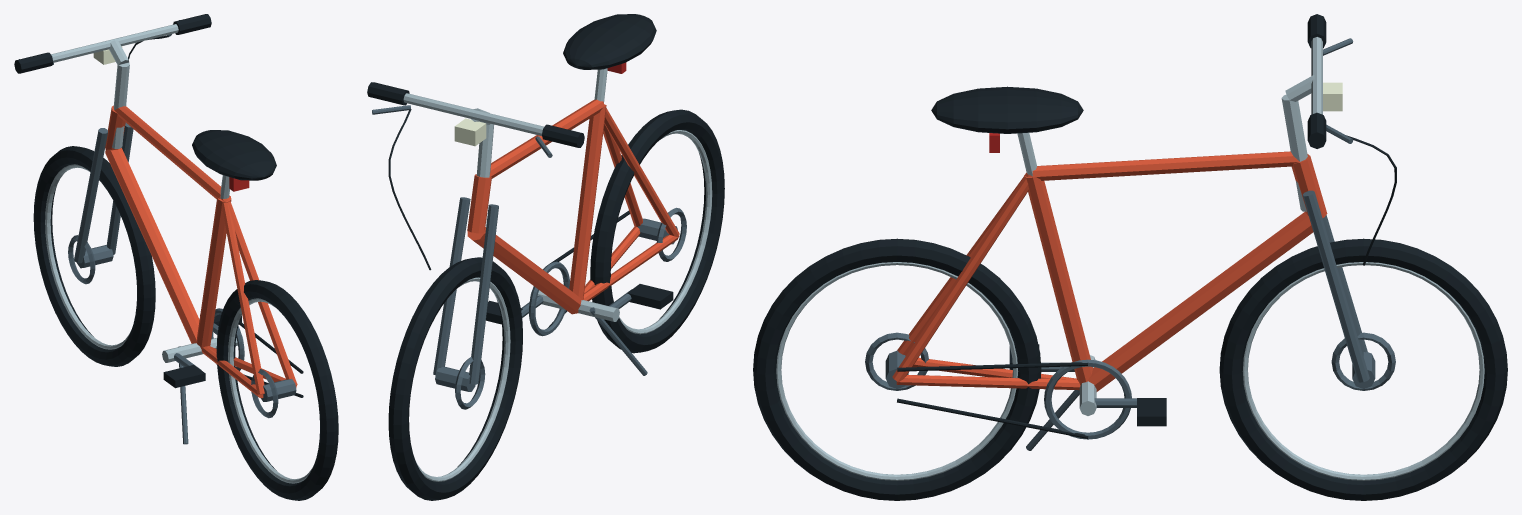
File: cycle.glb
3 renders of one model, left to right at view 1: azimuth 30°, elevation 25°; view 2: azimuth 150°, elevation 25°; view 3: azimuth 270°, elevation 25°, orthographic. The views are drawn at different scales.
Visible parts, largest first — view 1: cycle part 259, cycle part 265, cycle part 240, cycle part 247, cycle part 238, cycle part 243, cycle part 239, cycle part 245, cycle part 266, cycle part 249, cycle part 260, cycle part 253 (+13 smaller); view 2: cycle part 265, cycle part 259, cycle part 247, cycle part 238, cycle part 240, cycle part 249, cycle part 260, cycle part 266, cycle part 250, cycle part 239, cycle part 253, cycle part 243 (+17 smaller); view 3: cycle part 265, cycle part 259, cycle part 240, cycle part 247, cycle part 239, cycle part 238, cycle part 266, cycle part 260, cycle part 245, cycle part 250, cycle part 244, cycle part 276 (+10 smaller).
Boxes of the visible parts, bbox=[...] form: cycle part 259: bbox=[216, 280, 338, 500]; cycle part 265: bbox=[33, 146, 155, 366]; cycle part 240: bbox=[105, 148, 199, 343]; cycle part 247: bbox=[192, 130, 276, 180]; cycle part 238: bbox=[197, 196, 231, 349]; cycle part 243: bbox=[221, 198, 264, 394]; cycle part 239: bbox=[114, 106, 229, 199]; cycle part 245: bbox=[223, 198, 297, 385]; cycle part 266: bbox=[45, 164, 131, 349]; cycle part 249: bbox=[74, 128, 107, 263]; cycle part 260: bbox=[228, 298, 313, 483]; cycle part 253: bbox=[51, 24, 178, 62]; cycle part 265: bbox=[388, 257, 522, 500]; cycle part 259: bbox=[590, 109, 724, 353]; cycle part 247: bbox=[563, 14, 656, 69]; cycle part 238: bbox=[569, 104, 606, 300]; cycle part 240: bbox=[467, 227, 581, 314]; cycle part 249: bbox=[469, 204, 498, 384]; cycle part 260: bbox=[619, 130, 712, 334]; cycle part 266: bbox=[415, 277, 510, 481]; cycle part 250: bbox=[433, 197, 470, 375]; cycle part 239: bbox=[489, 99, 604, 178]; cycle part 253: bbox=[403, 93, 543, 135]; cycle part 243: bbox=[604, 104, 679, 237]; cycle part 265: bbox=[1219, 238, 1507, 500]; cycle part 259: bbox=[753, 238, 1041, 500]; cycle part 240: bbox=[1088, 212, 1313, 391]; cycle part 247: bbox=[931, 86, 1083, 133]; cycle part 239: bbox=[1032, 151, 1299, 180]; cycle part 238: bbox=[1024, 172, 1092, 385]; cycle part 266: bbox=[1242, 262, 1484, 480]; cycle part 260: bbox=[776, 262, 1018, 480]; cycle part 245: bbox=[892, 173, 1031, 382]; cycle part 250: bbox=[1302, 190, 1369, 382]; cycle part 244: bbox=[896, 375, 1080, 390]; cycle part 276: bbox=[1044, 359, 1131, 439].
Bounding box in the file's own units: 0.66 × 1.11 × 1.78.
